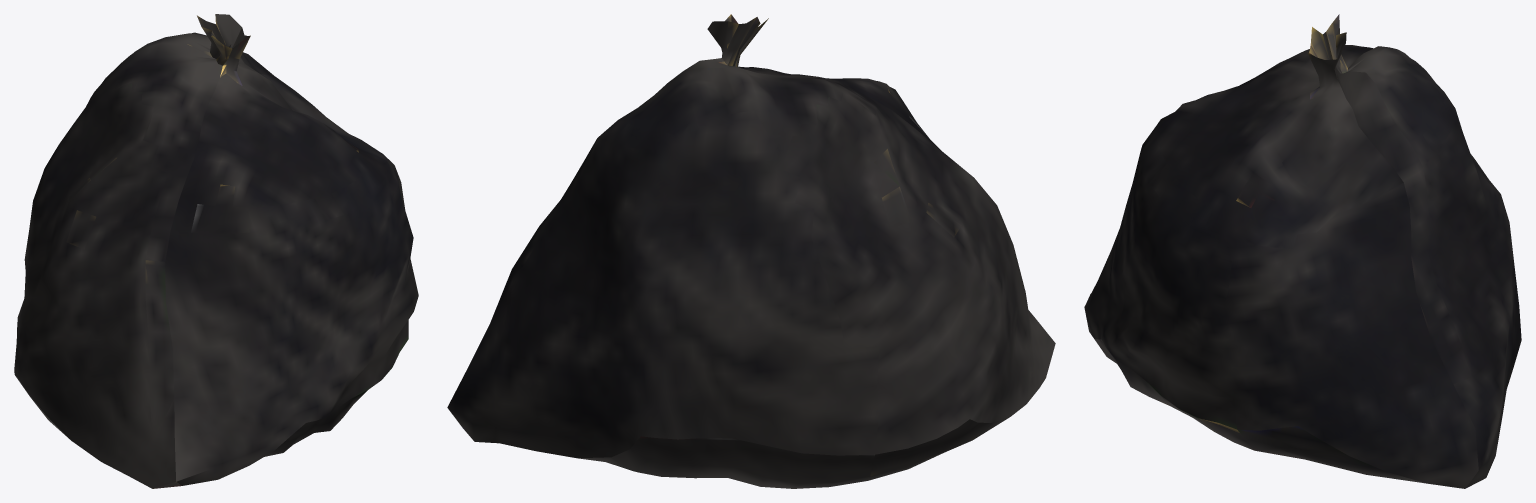
The model's file is Trash1.fbx.
3 renders of one model, left to right at view 1: azimuth 30°, elevation 25°; view 2: azimuth 150°, elevation 25°; view 3: azimuth 270°, elevation 25°, orthographic. The views are drawn at different scales.
Visible parts, largest first — view 1: Trash1; view 2: Trash1; view 3: Trash1.
Boxes of the visible parts, left/top/right/bottom form: Trash1: left=14, top=14, right=418, bottom=488; Trash1: left=447, top=14, right=1055, bottom=488; Trash1: left=1084, top=14, right=1521, bottom=488.
Size of the model in its own units: 36.65 by 33.91 by 34.66.
